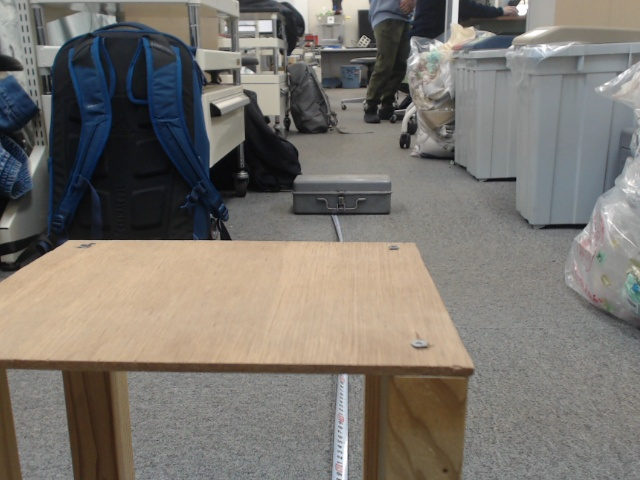desk: (275, 166, 499, 417)
